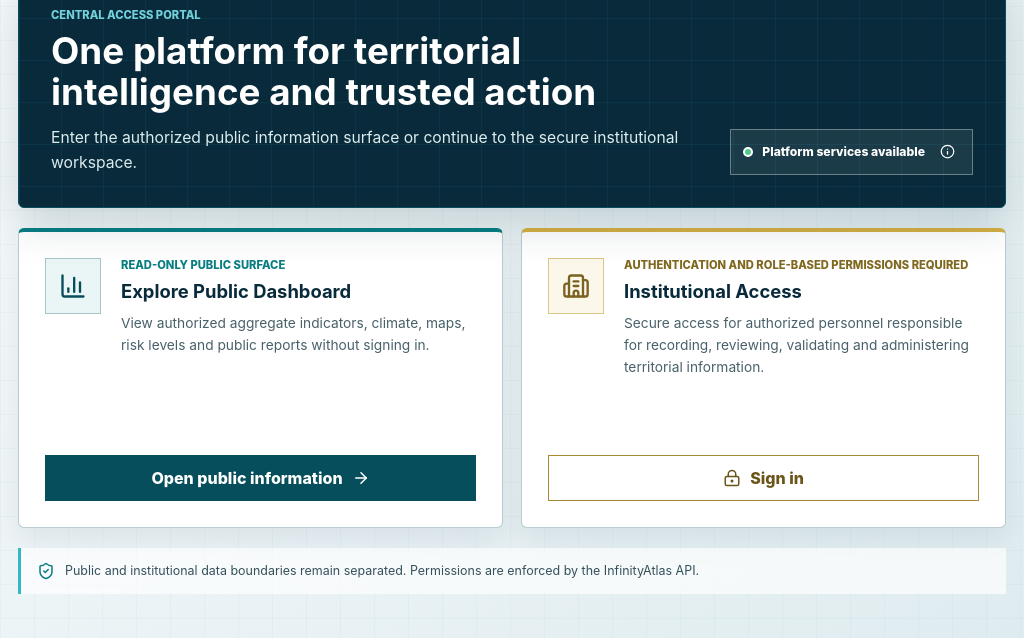
Test: Sprint 1B application › shows soft deletion only to administrators and removes the record after confirmation
(page scrolled)
Click the button "Sign in" at (764, 478), box [548,455,979,501]
(page scrolled)
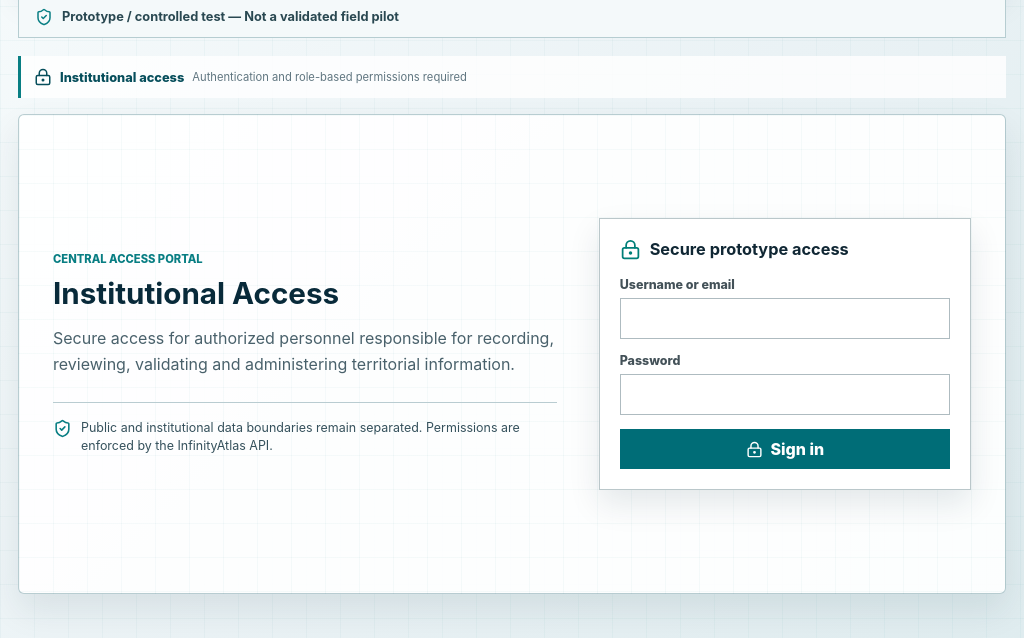
Expected: the field labelled "Username or email" is shown
Type "demo-admin" into the field labelled "Username or email" at (785, 319), box [620,298,950,339]
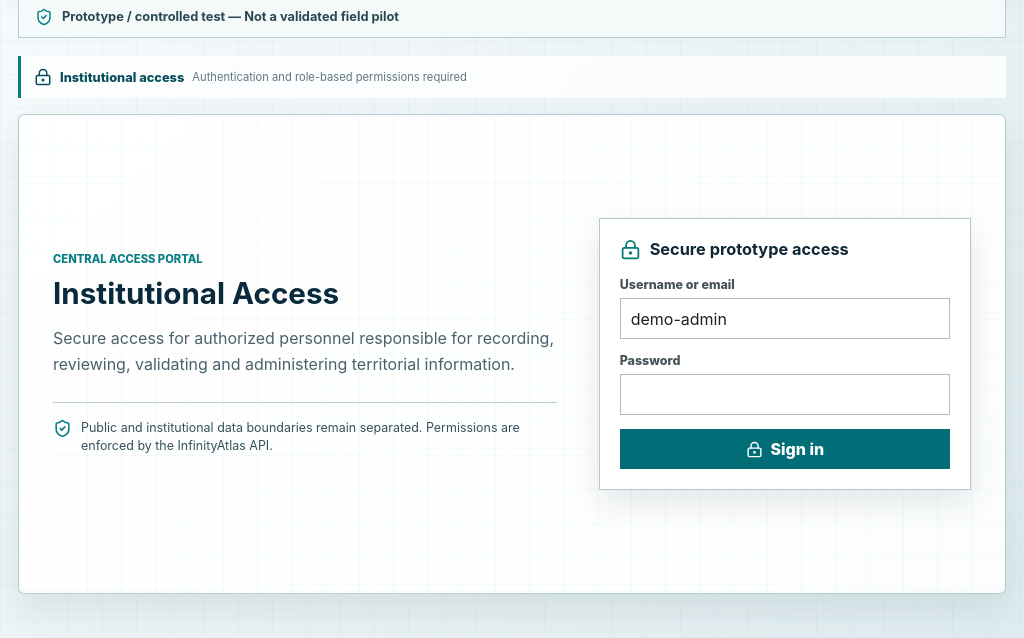
Type "local-password" into the password field labelled "Password" at (785, 395), box [620,374,950,415]
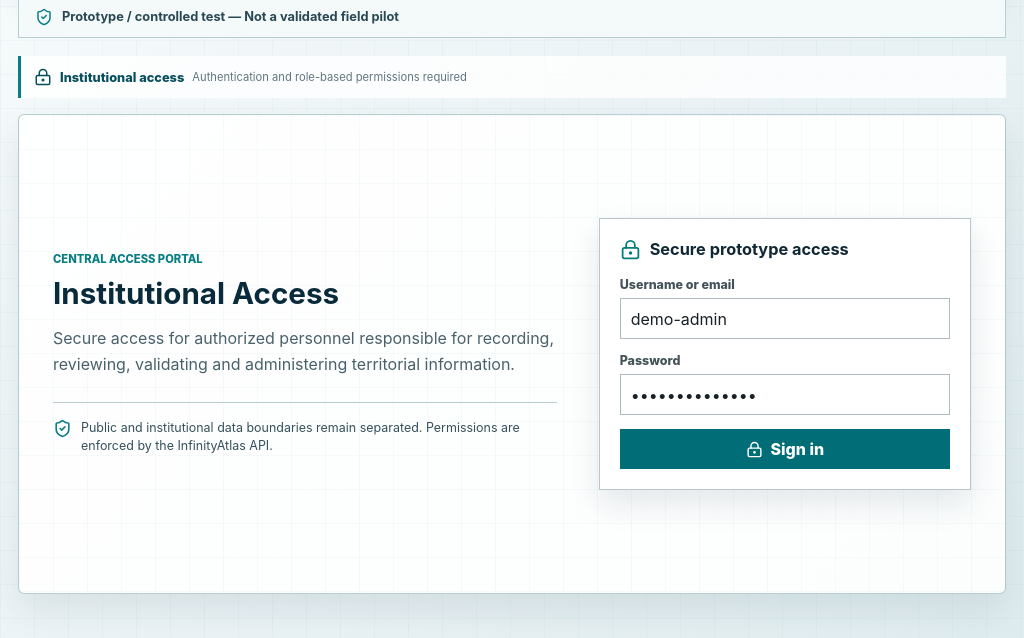
Click the button "Sign in" at (785, 449), box [620,429,950,469]
(page scrolled)
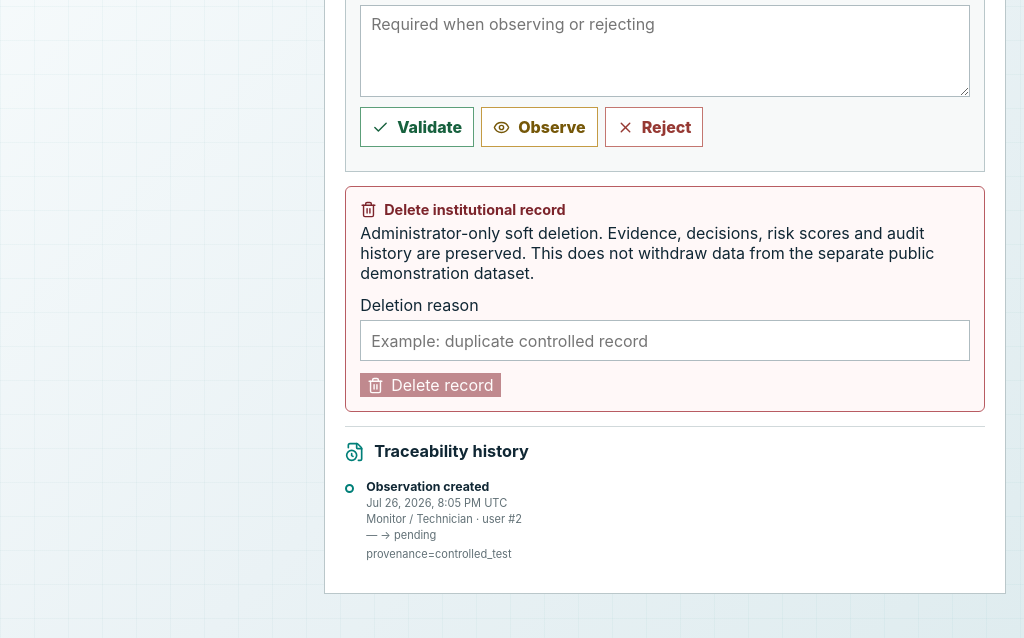
Type "Duplicate controlled record entered during UAT" into the field labelled "Deletion reason" at (665, 341), box [360,320,970,361]
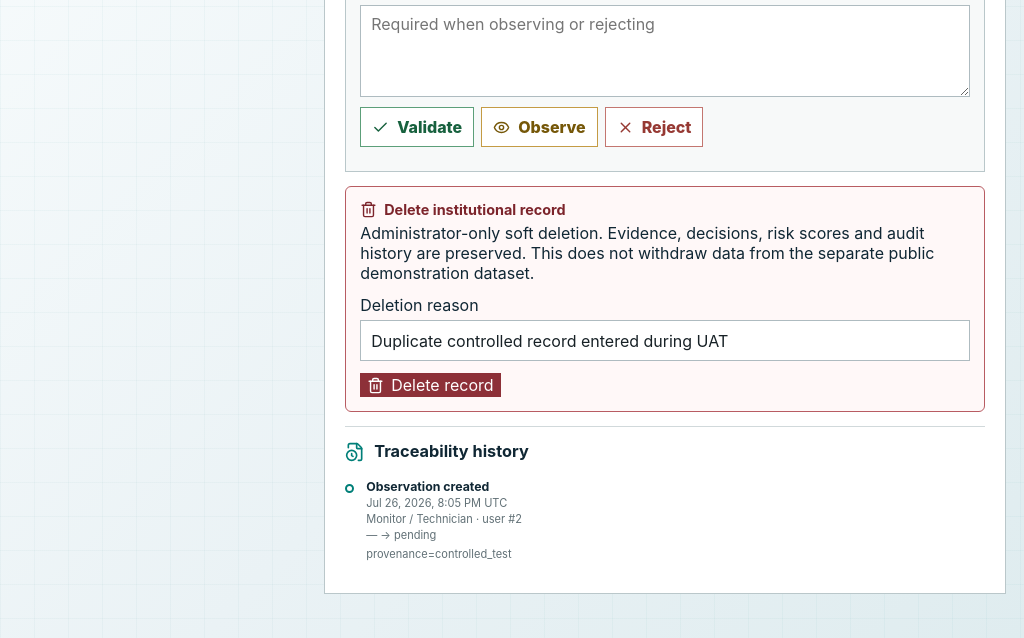
Click the button "Delete record" at (430, 385), box [360,373,501,397]
(page scrolled)
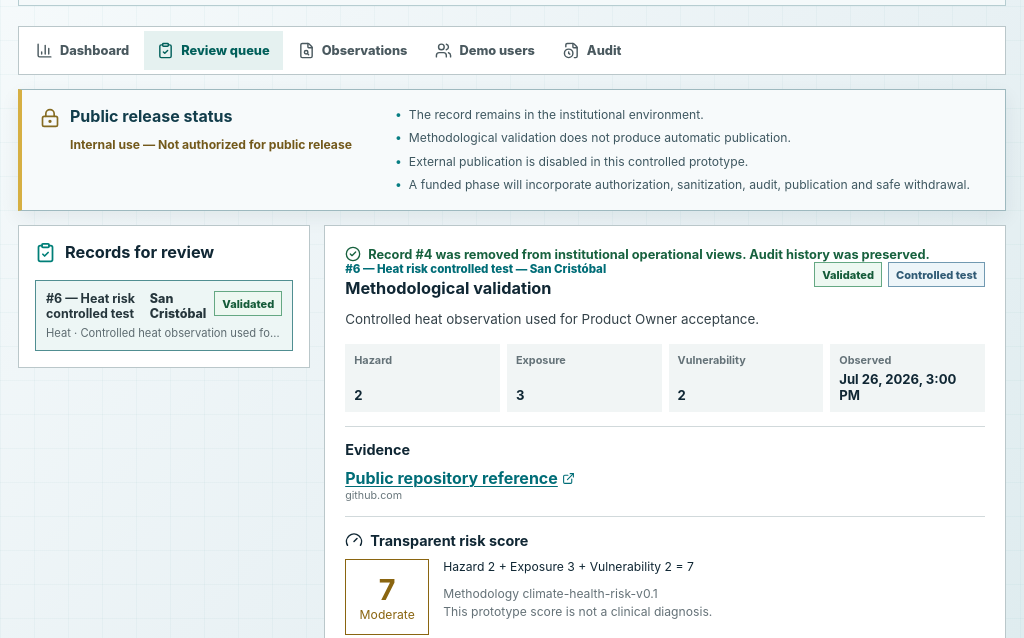
Expected: the text "Record #4 was removed from institutional operational views. Audit history was preserved." is shown, [368,247,930,262]
